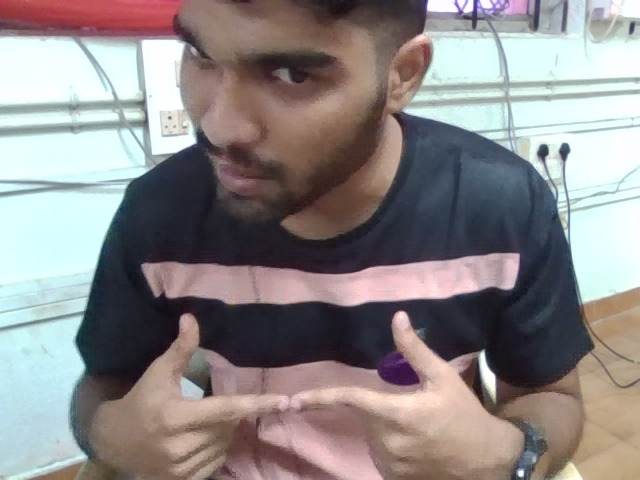hurt: (101, 292, 519, 478)
